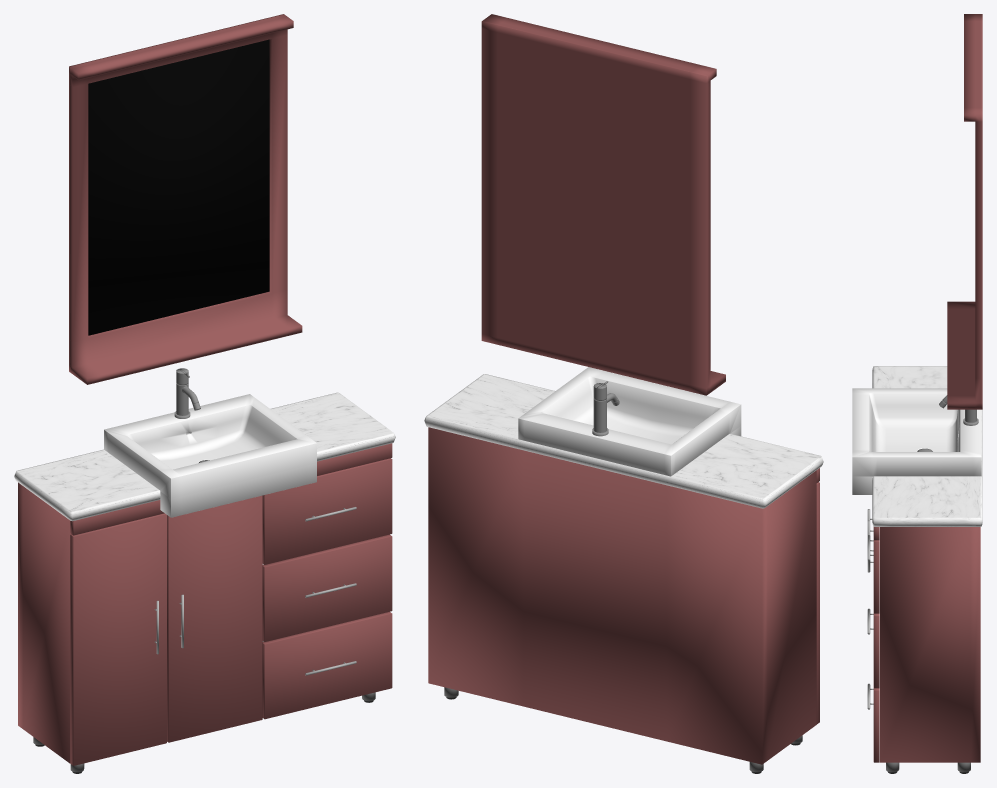
Rendered from bathroom_vanity.fbx.
The picture shows the model from 3 angles, left to right: view 1: azimuth 30°, elevation 25°; view 2: azimuth 150°, elevation 25°; view 3: azimuth 270°, elevation 25°; orthographic projection. The views are drawn at different scales.
Visible parts, largest first — view 1: mirror, mirror_frame, right_door_cabinet, left_door_cabinet, sink, base, marble, middle_drawer, bottom_drawer, top_drawer, trim, faucet.001; view 2: base, mirror_frame, sink, marble, right_door_cabinet, faucet.001; view 3: base, sink, marble, mirror_frame, middle_drawer, bottom_drawer, top_drawer, legs, faucet.001.
Part boxes in pixels (<box>): mirror: <box>88,39,269,335</box>; mirror_frame: <box>69,14,302,384</box>; right_door_cabinet: <box>70,513,166,765</box>; left_door_cabinet: <box>167,495,262,742</box>; sink: <box>104,394,316,517</box>; base: <box>18,482,70,763</box>; marble: <box>14,392,395,521</box>; middle_drawer: <box>262,534,392,641</box>; bottom_drawer: <box>262,611,392,719</box>; top_drawer: <box>262,458,392,564</box>; trim: <box>70,443,392,535</box>; faucet.001: <box>174,368,200,418</box>; base: <box>428,427,816,764</box>; mirror_frame: <box>481,14,725,395</box>; sink: <box>518,367,741,476</box>; marble: <box>424,374,823,508</box>; right_door_cabinet: <box>816,482,819,724</box>; faucet.001: <box>592,381,619,436</box>; base: <box>880,527,980,762</box>; sink: <box>852,388,981,494</box>; marble: <box>872,366,982,526</box>; mirror_frame: <box>947,14,982,409</box>; middle_drawer: <box>873,613,879,688</box>; bottom_drawer: <box>873,688,879,762</box>; top_drawer: <box>873,540,879,613</box>; legs: <box>886,762,970,773</box>; faucet.001: <box>939,395,978,425</box>.
Bounding box in the file's own units: 1.07 × 2.08 × 0.3852.
